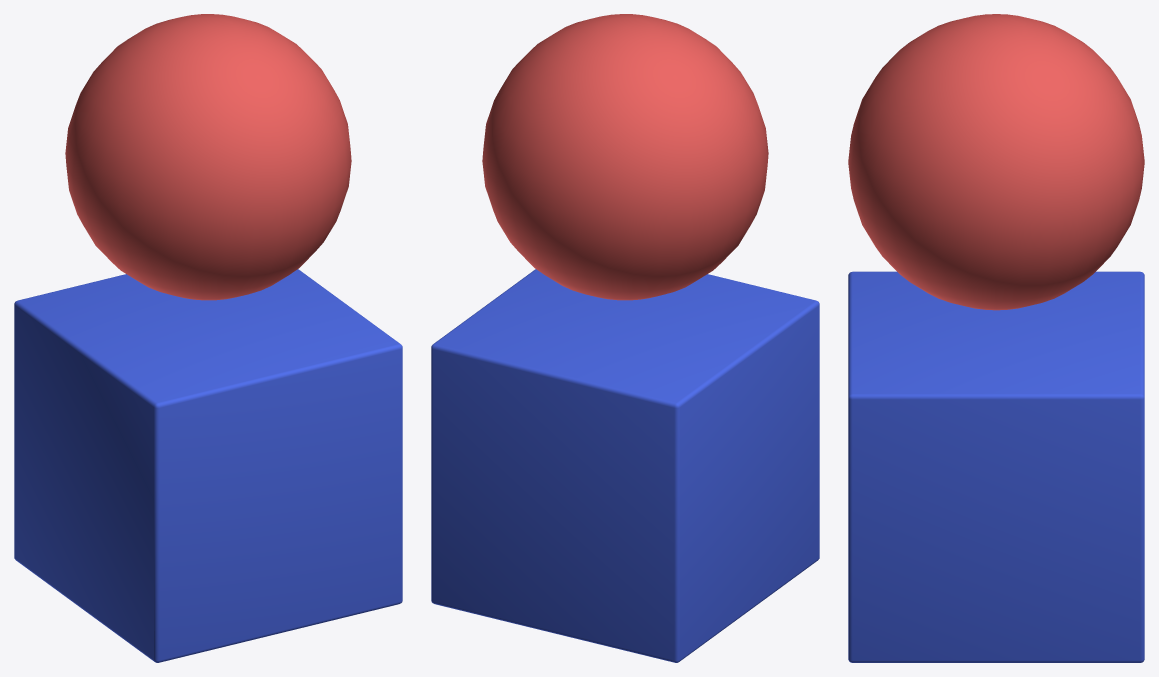
3 renders of one model, left to right at view 1: azimuth 30°, elevation 25°; view 2: azimuth 150°, elevation 25°; view 3: azimuth 270°, elevation 25°, orthographic. The views are drawn at different scales.
Parts seen in each view (by area): view 1: Cube, 球; view 2: Cube, 球; view 3: Cube, 球.
Part boxes in pixels (<box>): Cube: <box>14,269,402,662</box>; 球: <box>65,14,351,300</box>; Cube: <box>431,269,819,662</box>; 球: <box>482,14,768,300</box>; Cube: <box>848,271,1144,662</box>; 球: <box>848,14,1144,310</box>.
Size of what is drawn, in the model's own units: 2 by 4.27 by 2.
